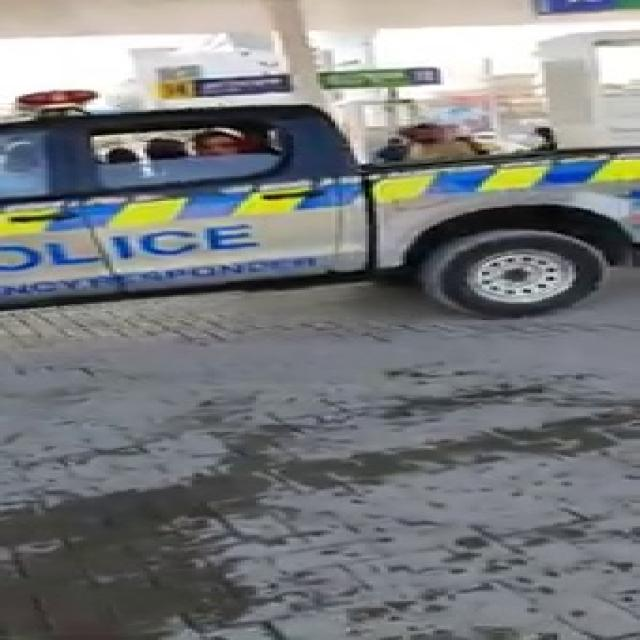police: (0, 74, 606, 314)
